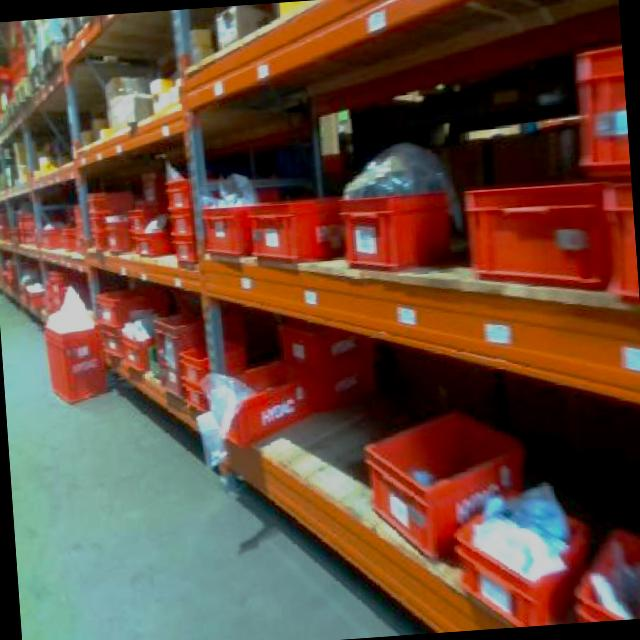ground: (0, 236, 440, 640)
